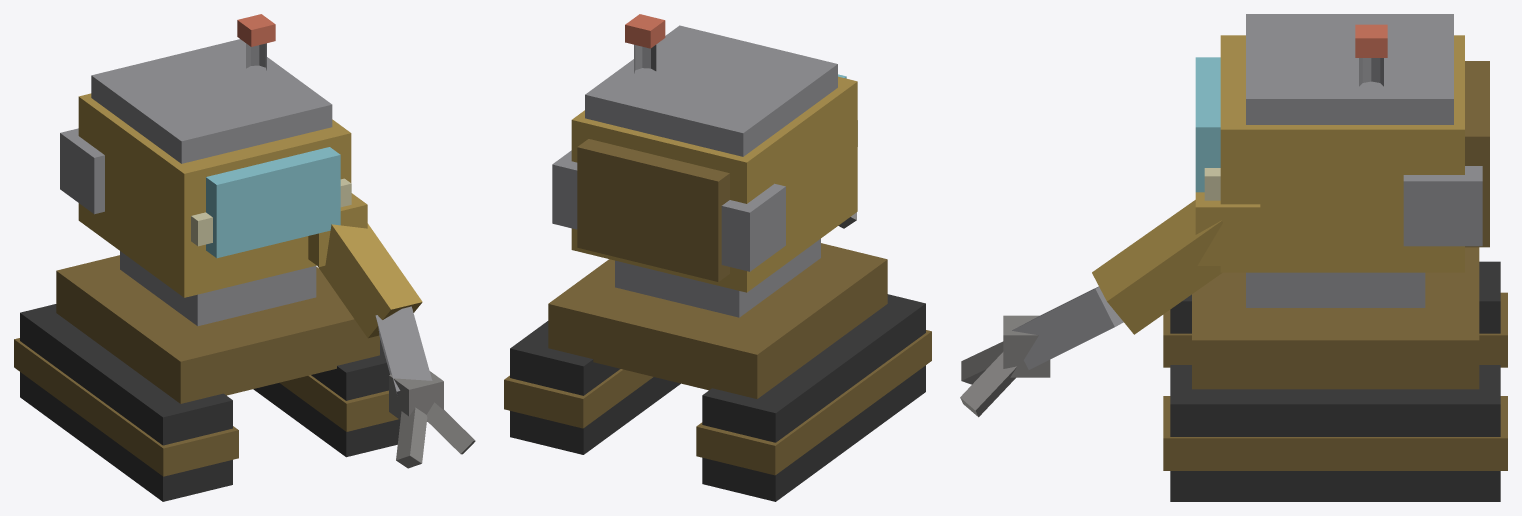
Rendered from simple_forager.glb.
3 renders of one model, left to right at view 1: azimuth 30°, elevation 25°; view 2: azimuth 150°, elevation 25°; view 3: azimuth 270°, elevation 25°, orthographic. The views are drawn at different scales.
Size of the model in its own units: 0.96 by 1.32 by 1.53.
